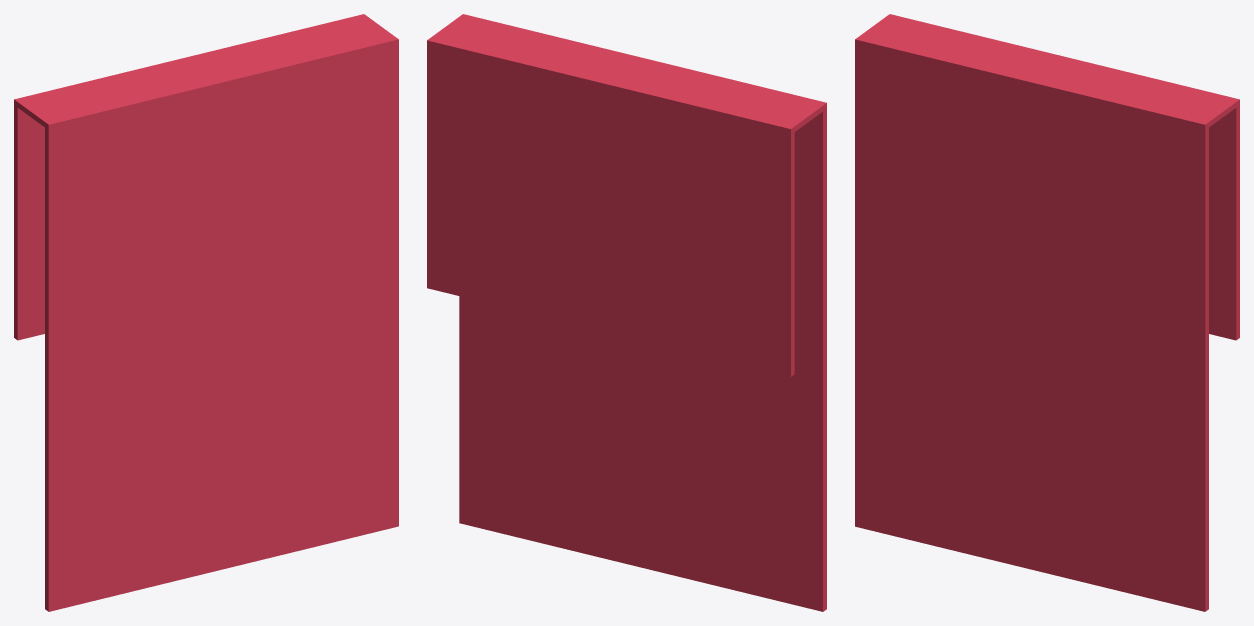
File: Itr_Towel_01.FBX
3 renders of one model, left to right at view 1: azimuth 30°, elevation 25°; view 2: azimuth 150°, elevation 25°; view 3: azimuth 330°, elevation 25°, orthographic. The views are drawn at different scales.
Parts seen in each view (by area): view 1: Itr_Towel_01; view 2: Itr_Towel_01; view 3: Itr_Towel_01.
Part boxes in pixels (x1=…): Itr_Towel_01: x1=14, y1=14, x2=398, y2=611; Itr_Towel_01: x1=427, y1=14, x2=826, y2=611; Itr_Towel_01: x1=855, y1=14, x2=1239, y2=611.
Bounding box in the file's own units: 17.26 × 22.96 × 2.97.
